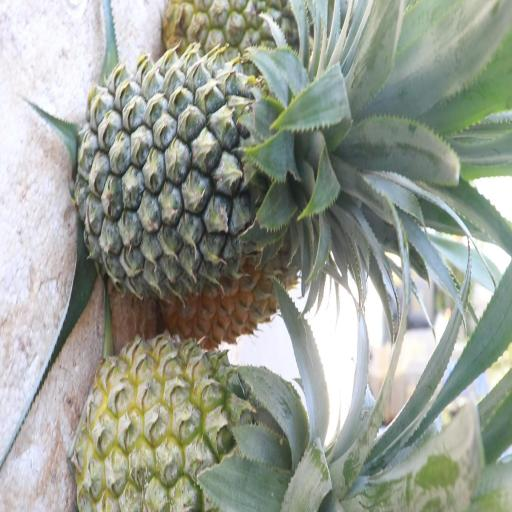------------------------------: (78, 336, 289, 512)
